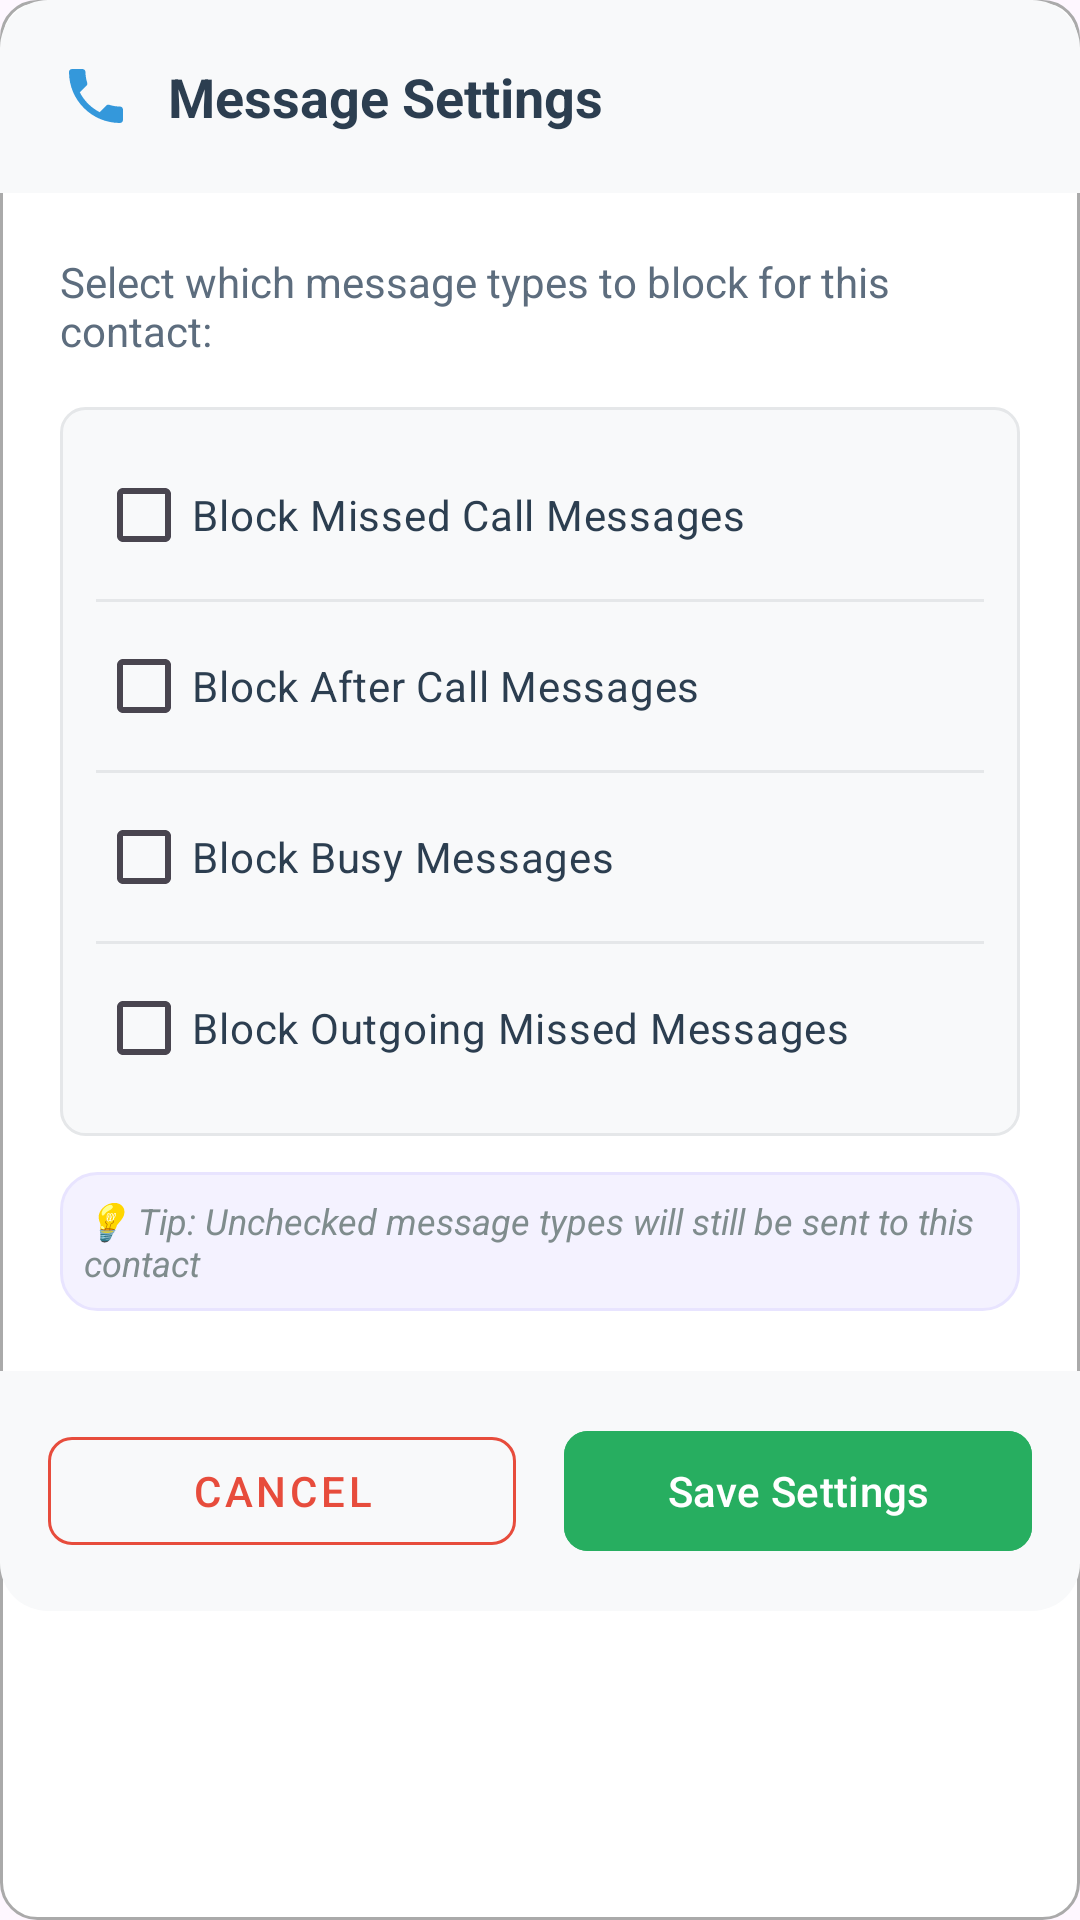

Screen size 1080 × 1920. Icon name, then its box in pixels as [x1=x1, y1=y1, x2=x2, y2=y2]:
phone: [x1=69, y1=69, x2=123, y2=123]
